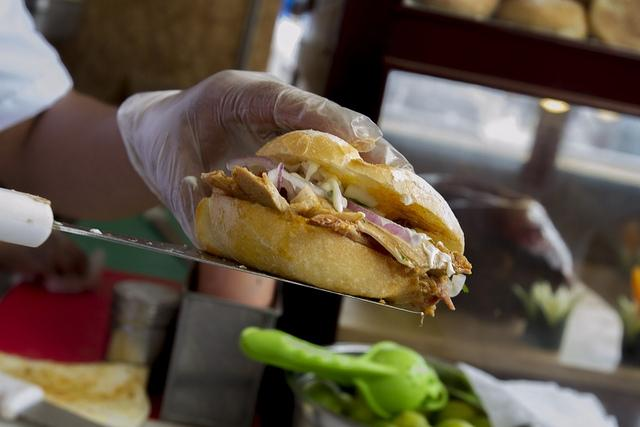onion: (226, 155, 297, 200), (268, 162, 286, 194)
